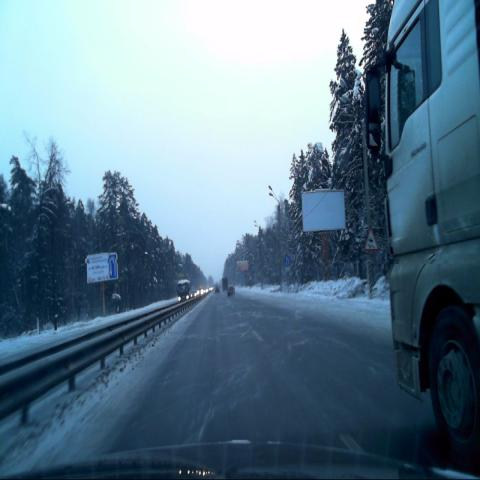1_15: (364, 227, 378, 251)
